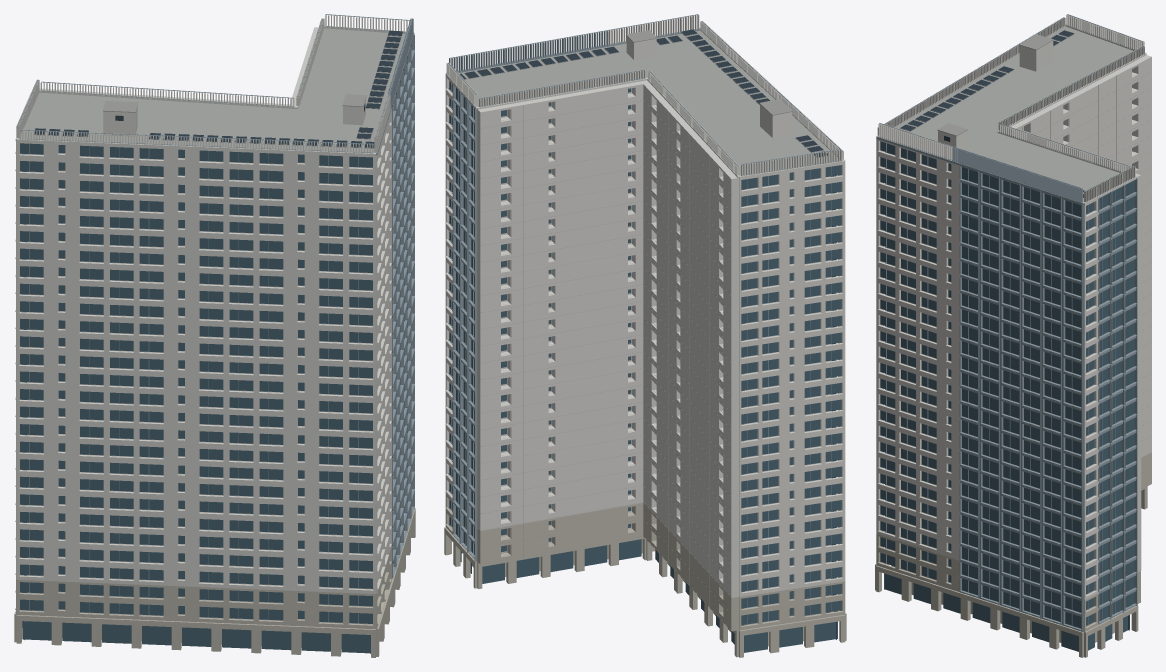
The model's file is bespoke-maple-xi-110.glb.
3 views of the same model, side by side, from view 1: azimuth 30°, elevation 25°; view 2: azimuth 150°, elevation 25°; view 3: azimuth 270°, elevation 25° (orthographic). The views are drawn at different scales.
Parts seen in each view (by area): view 1: Maple110_numbered_plan_inset_body, Maple110_e0_end_glass, Maple110_numbered_plan_roof, Maple110_e0_end_unequal_sash, Maple110_recessed_stone_lobby, Maple110_PV_cells, Maple110_PV_frame, Maple110_e1_cladding_joint; view 2: Maple110_numbered_plan_inset_body, Maple110_e0_end_glass, Maple110_recessed_stone_lobby, Maple110_e0_end_unequal_sash, Maple110_numbered_plan_roof, Maple110_e1_cladding_joint, Maple110_PV_cells, Maple110_PV_frame; view 3: Maple110_e0_end_glass, Maple110_numbered_plan_inset_body, Maple110_e0_end_unequal_sash, Maple110_numbered_plan_roof, Maple110_recessed_stone_lobby, Maple110_e1_cladding_joint, Maple110_PV_cells.
Boxes of the visible parts, box(x1,y1,x2,y2) form: Maple110_numbered_plan_inset_body: box(15, 14, 411, 624); Maple110_e0_end_glass: box(20, 44, 411, 653); Maple110_numbered_plan_roof: box(19, 28, 405, 152); Maple110_e0_end_unequal_sash: box(17, 14, 414, 623); Maple110_recessed_stone_lobby: box(14, 489, 415, 657); Maple110_PV_cells: box(34, 30, 402, 147); Maple110_PV_frame: box(34, 31, 403, 148); Maple110_e1_cladding_joint: box(103, 94, 392, 508); Maple110_numbered_plan_inset_body: box(445, 14, 845, 624); Maple110_e0_end_glass: box(448, 81, 841, 652); Maple110_recessed_stone_lobby: box(444, 494, 846, 657); Maple110_e0_end_unequal_sash: box(448, 14, 842, 624); Maple110_numbered_plan_roof: box(458, 30, 840, 175); Maple110_e1_cladding_joint: box(480, 30, 792, 629); Maple110_PV_cells: box(459, 29, 827, 156); Maple110_PV_frame: box(464, 30, 829, 157); Maple110_e0_end_glass: box(880, 127, 1134, 651); Maple110_numbered_plan_inset_body: box(876, 14, 1151, 612); Maple110_e0_end_unequal_sash: box(876, 14, 1143, 631); Maple110_numbered_plan_roof: box(895, 26, 1132, 202); Maple110_recessed_stone_lobby: box(875, 452, 1151, 657); Maple110_e1_cladding_joint: box(937, 34, 1151, 630); Maple110_PV_cells: box(900, 30, 1084, 197).
Bounding box in the file's own units: 73.45 × 90.12 × 47.62.
